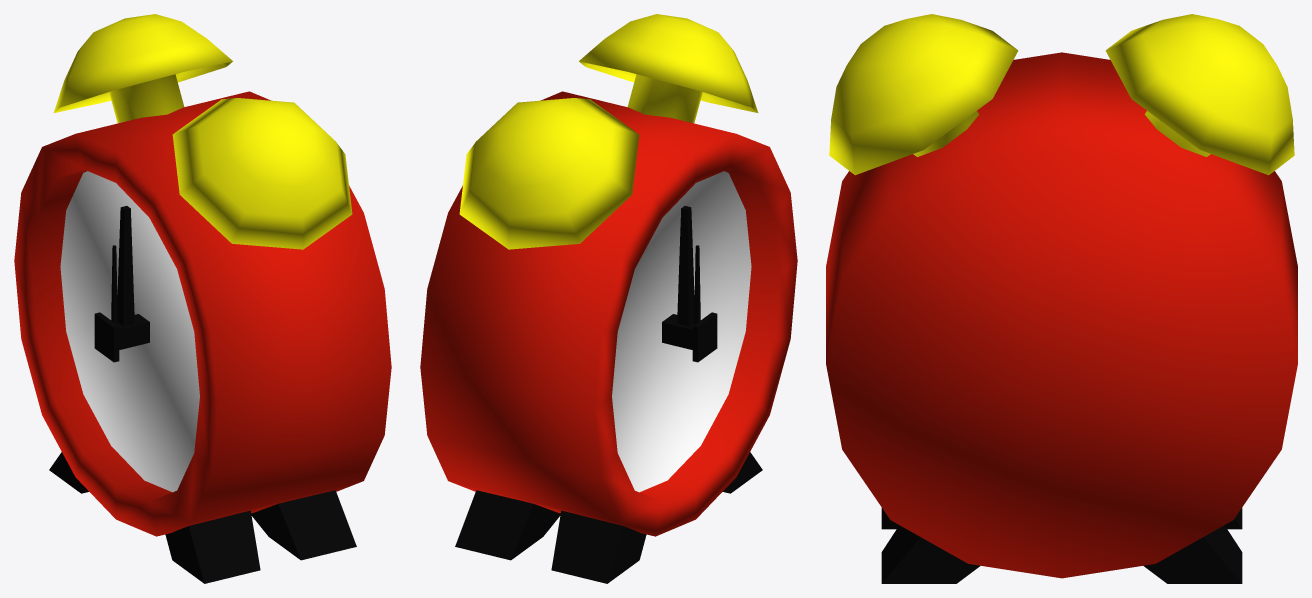
Rendered from Clock.fbx.
3 renders of one model, left to right at view 1: azimuth 30°, elevation 25°; view 2: azimuth 150°, elevation 25°; view 3: azimuth 270°, elevation 25°, orthographic. The views are drawn at different scales.
Parts seen in each view (by area): view 1: Cube.003, Cube.004; view 2: Cube.003, Cube.004; view 3: Cube.003.
Boxes of the visible parts, box(x1,y1,x2,y2) form: Cube.003: box(14, 14, 391, 583); Cube.004: box(117, 206, 134, 326); Cube.003: box(420, 14, 797, 583); Cube.004: box(677, 206, 694, 326); Cube.003: box(826, 14, 1297, 583).
Bounding box in the file's own units: 96.57 × 222 × 183.
